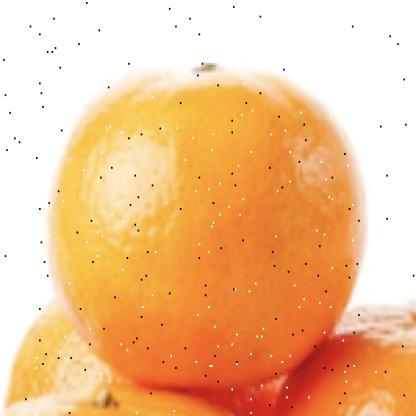fresh: (53, 61, 362, 391)
